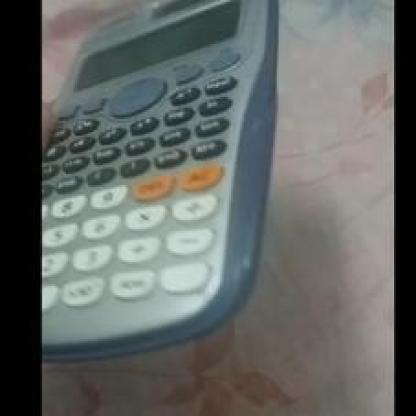calculator: (47, 0, 271, 369)
